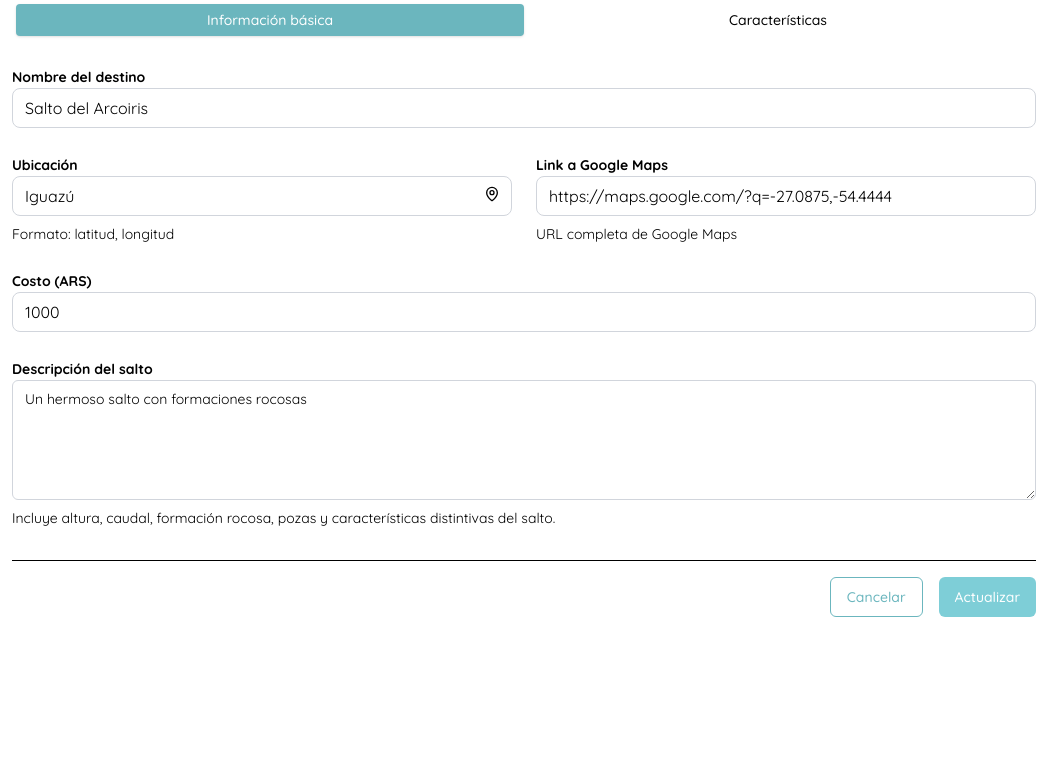
Test: SaltoForm › Selección de infraestructura › carga correctamente las opciones de infraestructura desde datos iniciales
Click the tab "Características" at (778, 20), box [524, 4, 1032, 36]
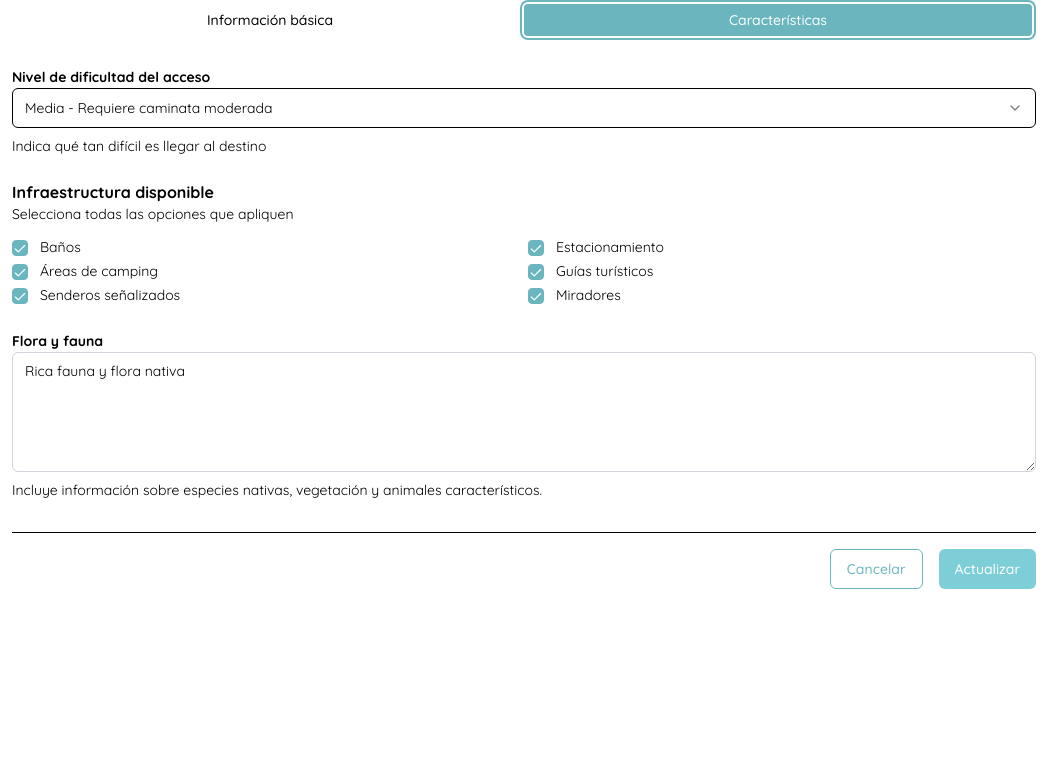
Check: the checkbox named "Baños" next to "Baños" is checked, box [12, 240, 28, 256]
Check: the checkbox named "Estacionamiento" next to "Estacionamiento" is checked, box [528, 240, 544, 256]
